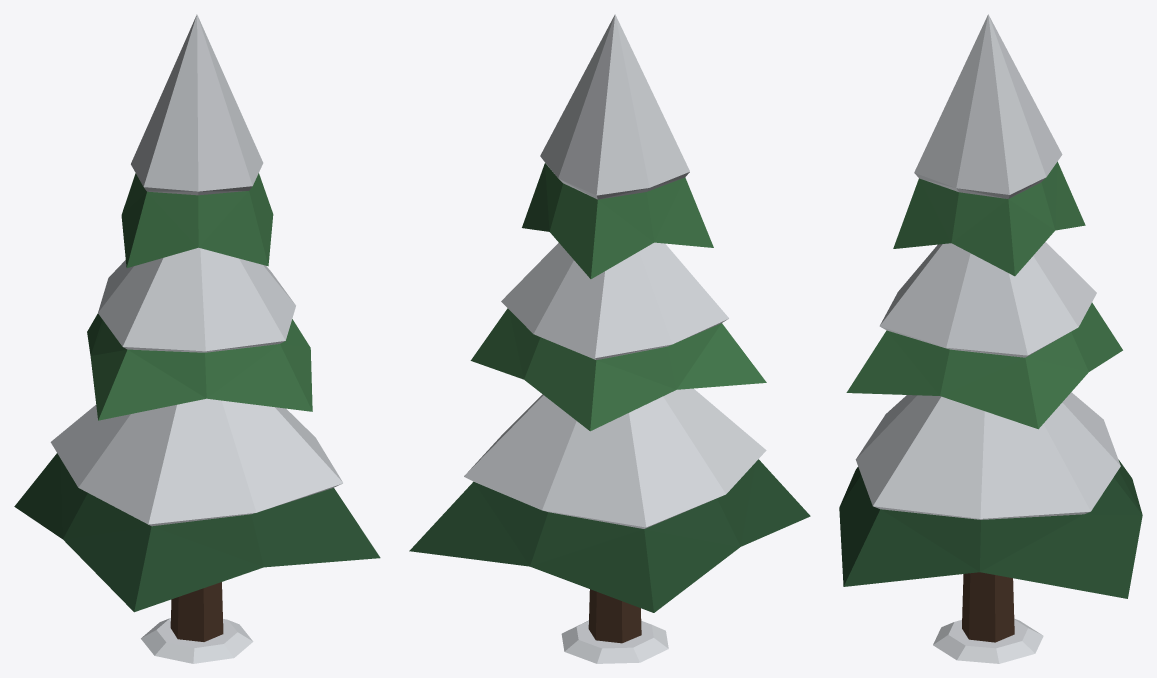
Rendered from pine_b.glb.
The picture shows the model from 3 angles, left to right: view 1: azimuth 30°, elevation 25°; view 2: azimuth 150°, elevation 25°; view 3: azimuth 270°, elevation 25°; orthographic projection.
Parts seen in each view (by area): view 1: Tree; view 2: Tree; view 3: Tree.
Boxes of the visible parts, <box> form: Tree: <box>14,14,380,663</box>; Tree: <box>409,14,810,663</box>; Tree: <box>839,14,1142,663</box>.
Bounding box in the file's own units: 2.44 × 5.5 × 2.41.
